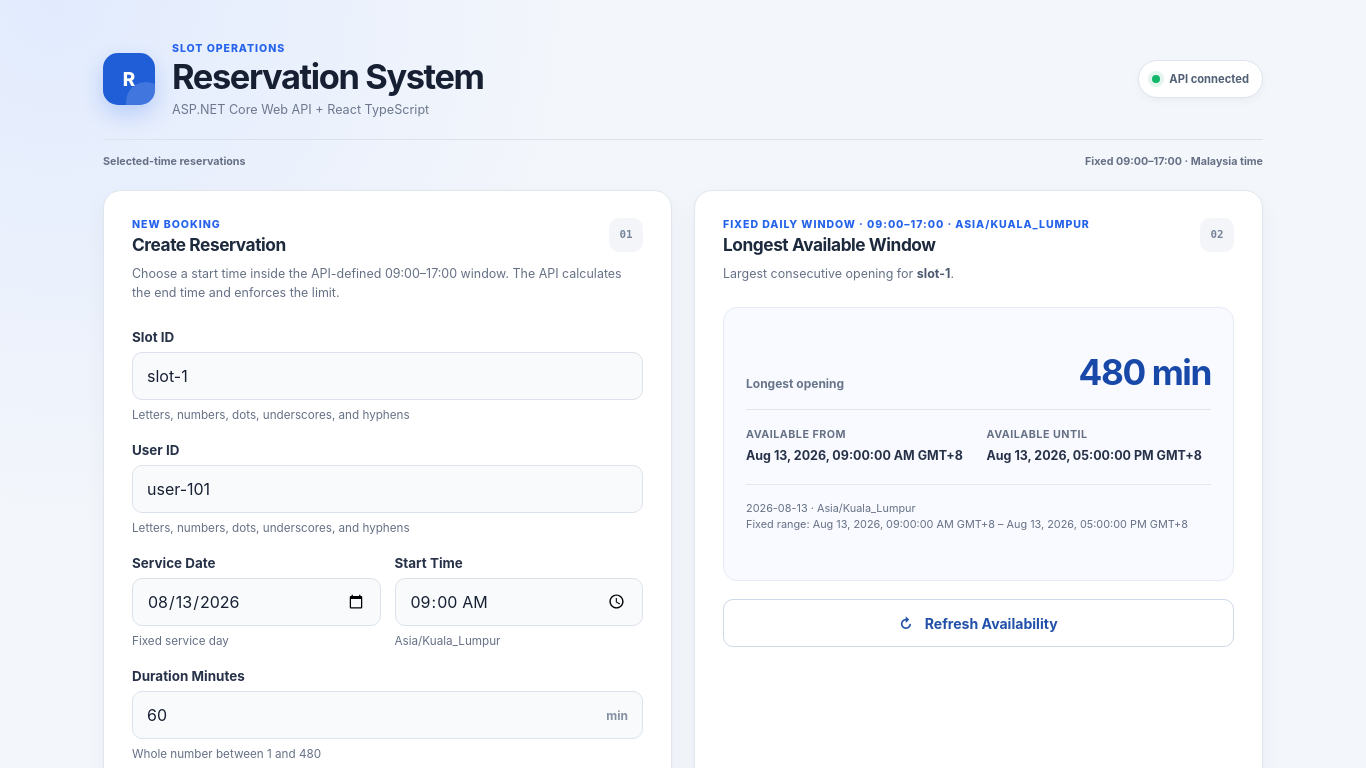
Scenario: ReservationPage › books the selected 120-minute interval and renders the refreshed longest window
Replace the text in the time field labelled "Start Time" with "11:00" at (519, 602), box [394,578,643,626]
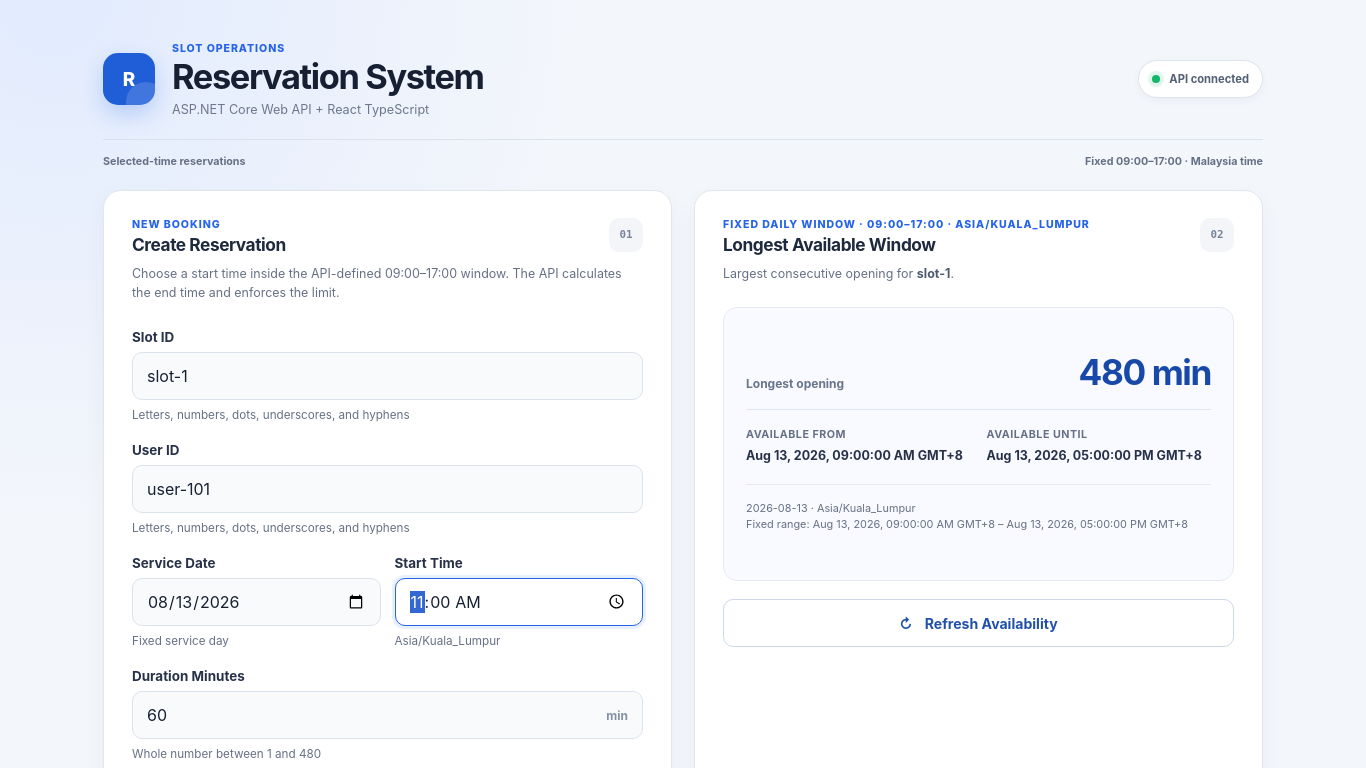
Type "120" into the number field labelled "Duration Minutes" at (388, 715), box [132,691,643,739]
(page scrolled)
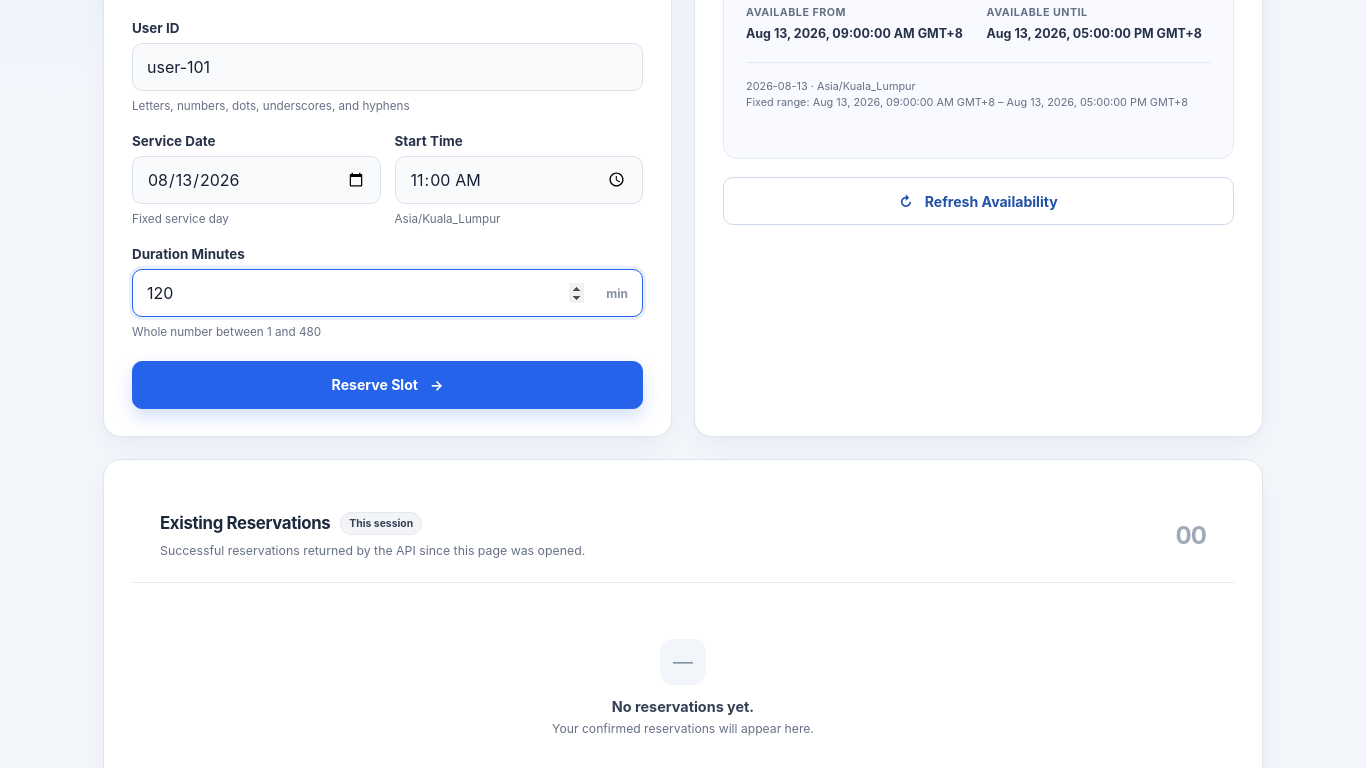
Click the button "Reserve Slot →" at (388, 385), box [132,361,643,409]
(page scrolled)
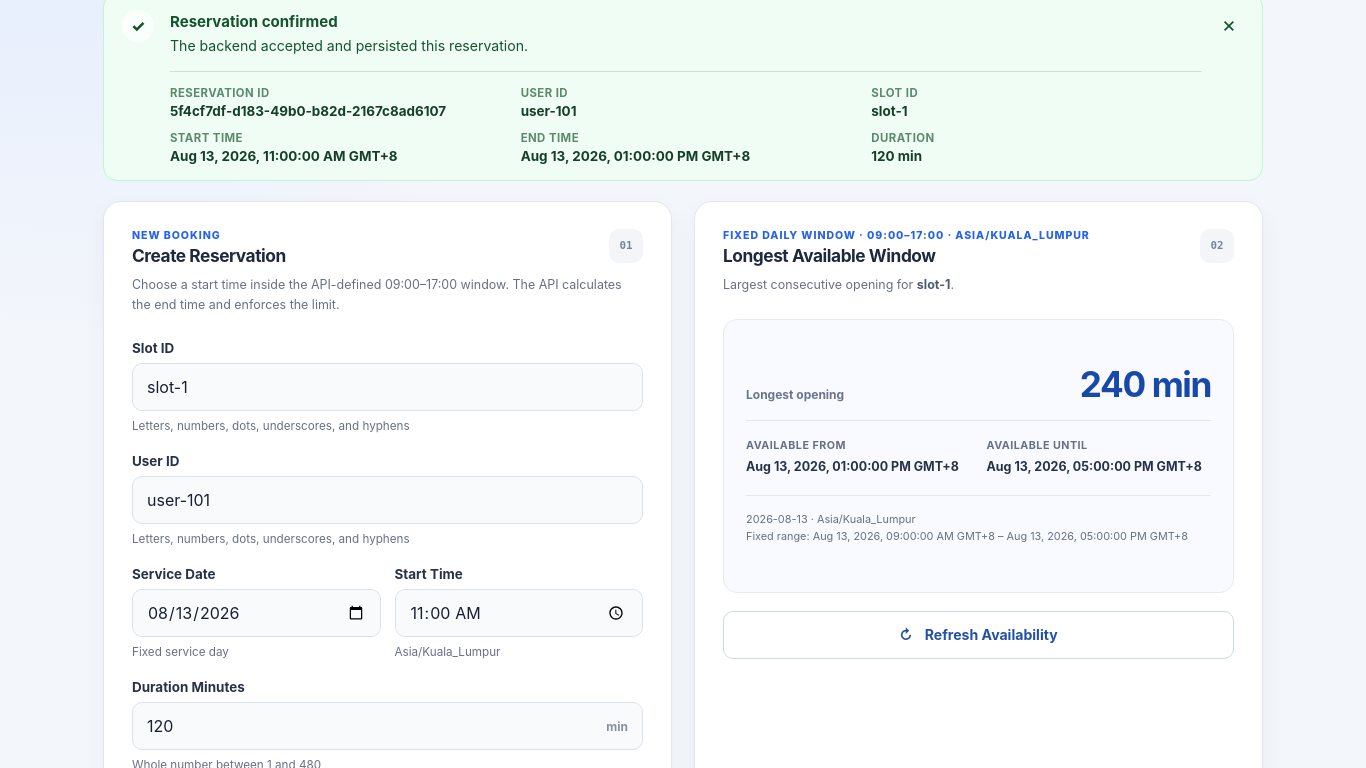
Check: the heading "Reservation confirmed" is shown, box [170,12,338,30]
Check: the text "5f4cf7df-d183-49b0-b82d-2167c8ad6107" is shown, box [170,103,446,119]
Check: the text "240 min" is shown, box [1080,367,1211,402]
